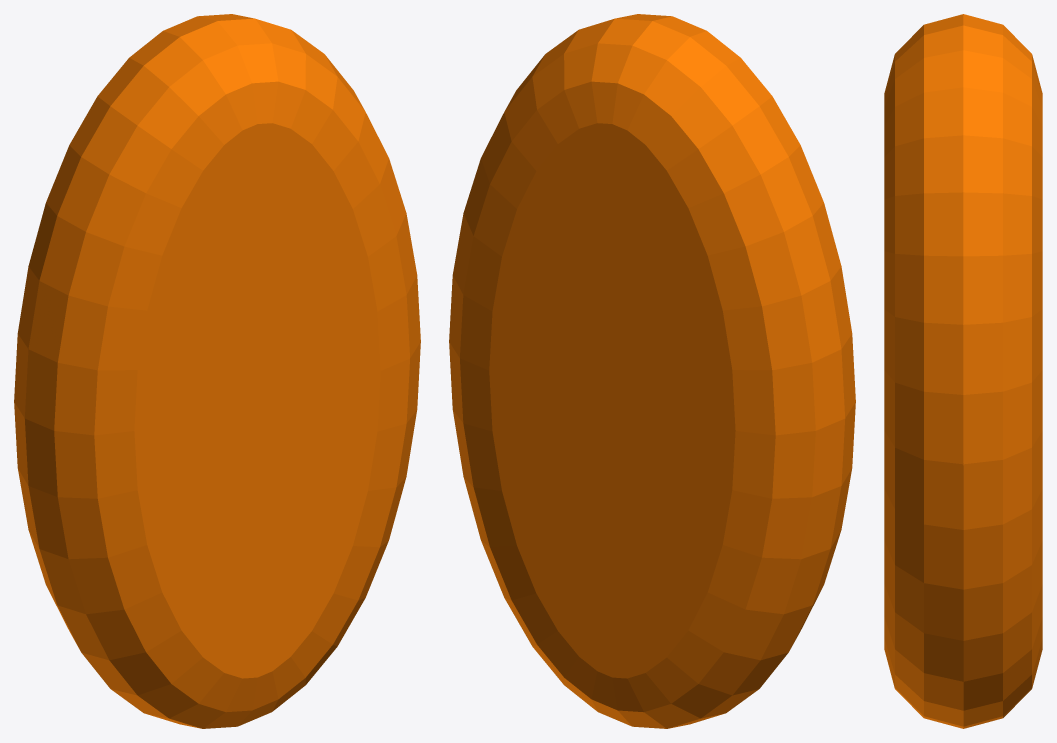
Rendered from gems_006.fbx.
3 views of the same model, side by side, from view 1: azimuth 30°, elevation 25°; view 2: azimuth 150°, elevation 25°; view 3: azimuth 270°, elevation 25° (orthographic).
Visible parts, largest first — view 1: gems.006; view 2: gems.006; view 3: gems.006.
Part boxes in pixels (x1,y1,x2,y2): gems.006: (14, 14, 420, 728); gems.006: (449, 14, 855, 728); gems.006: (884, 14, 1042, 728).
Size of the model in its own units: 9.72 by 16.89 by 3.5.
